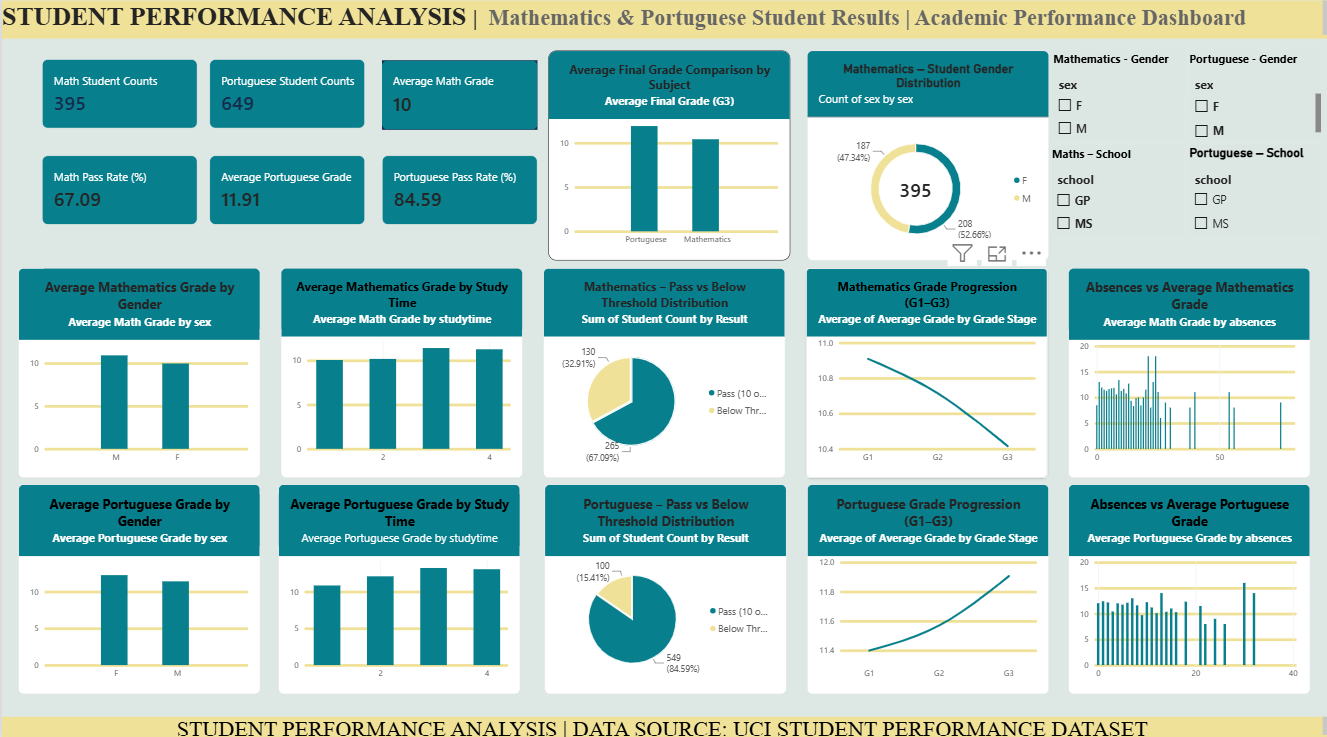

What the dashboard file says about the page in this screenshot:
{"tool":"powerbi","page":{"name":"Student Performance Dashboard","canvas":[1920,1080],"ordinal":0},"visuals":[{"type":"cardVisual","fields":{"Data":["student-mat.Math Student Counts"]},"box":[57.9,95.9,225,100],"z":0},{"type":"cardVisual","fields":{"Data":["student-mat.Portuguese Student Counts"]},"box":[300.4,95.9,225,100],"z":1000},{"type":"cardVisual","fields":{"Data":["student-mat.Average Math Grade"]},"box":[550.1,97.7,225,100],"z":2000},{"type":"cardVisual","fields":{"Data":["student-por.Average Portuguese Grade"]},"box":[300.4,235.3,225,100],"z":3000},{"type":"cardVisual","fields":{"Data":["student-mat.Math Pass Rate (%)"]},"box":[57.9,235.3,225,100],"z":4000},{"type":"cardVisual","fields":{"Data":["student-mat.Portuguese Pass Rate (%)"]},"box":[550.1,235.3,225,100],"z":5000},{"type":"textbox","box":[150,819,300,261],"z":6000},{"type":"textbox","box":[0,11.7,1920,55],"z":7000},{"type":"lineClusteredColumnComboChart","title":"Average Final Grade Comparison by Subject","fields":{"Category":["Subject_Grade_Analysis.Subject"],"Y":["Sum(Subject_Grade_Analysis.Average Grade)"]},"box":[790.8,83.2,350,304],"z":8000},{"type":"lineClusteredColumnComboChart","title":"Average Mathematics Grade by Gender","fields":{"Category":["student-mat.sex"],"Y":["student-mat.Average Math Grade"]},"box":[23.5,398.1,350,304],"z":9000},{"type":"lineClusteredColumnComboChart","title":"Average Mathematics Grade by Study Time","fields":{"Category":["student-mat.studytime"],"Y":["student-mat.Average Math Grade"]},"box":[403.6,398.1,350,304],"z":10000},{"type":"lineClusteredColumnComboChart","title":"Average Portuguese Grade by Gender","fields":{"Category":["student-por.sex"],"Y":["student-por.Average Portuguese Grade"]},"box":[23.5,711.2,350,304],"z":11000},{"type":"lineClusteredColumnComboChart","title":"Average Portuguese Grade by Study Time","fields":{"Category":["student-por.studytime"],"Y":["student-por.Average Portuguese Grade"]},"box":[399.9,711.2,350,304],"z":12000},{"type":"lineClusteredColumnComboChart","title":"Absences vs Average Mathematics Grade","fields":{"Category":["student-mat.absences"],"Y":["student-mat.Average Math Grade"]},"box":[1543.6,398.1,350,304],"z":13000},{"type":"lineClusteredColumnComboChart","title":"Absences vs Average Portuguese Grade","fields":{"Category":["student-por.absences"],"Y":["student-por.Average Portuguese Grade"]},"box":[1543.6,711.2,350,304],"z":14000},{"type":"slicer","title":"Mathematics - Gender","fields":{"Values":["student-mat.sex"]},"box":[1521.9,83.2,190,130],"z":15000},{"type":"slicer","title":"Maths – School","fields":{"Values":["student-mat.school"]},"box":[1520.1,220.8,190,130],"z":16000},{"type":"slicer","title":"Portuguese - Gender","fields":{"Values":["student-por.sex"]},"box":[1719.2,83.2,190,130.3],"z":17000},{"type":"slicer","title":"Portuguese – School","fields":{"Values":["student-por.school"]},"box":[1719.2,220.8,190,130],"z":18000},{"type":"donutChart","title":"Mathematics – Student Gender Distribution","fields":{"Category":["student-mat.sex"],"Y":["CountNonNull(student-mat.sex)"]},"box":[1165.4,83.2,350,304],"z":19000},{"type":"lineChart","title":"Mathematics Grade Progression (G1–G3)","fields":{"Category":["Math_Grade_Progress.Grade Stage"],"Y":["Avg(Math_Grade_Progress.Average Grade)"]},"box":[1163.6,398.1,350,304],"z":20000},{"type":"lineChart","title":"Portuguese Grade Progression (G1–G3)","fields":{"Category":["Portuguese_Grade_Progress.Grade Stage"],"Y":["Avg(Portuguese_Grade_Progress.Average Grade)"]},"box":[1165.4,711.2,350,304],"z":21000},{"type":"pieChart","title":"Mathematics – Pass vs Below Threshold Distribution","fields":{"Category":["Math_Pass_Analysis.Result"],"Y":["Sum(Math_Pass_Analysis.Student Count)"]},"box":[783.6,398.1,350,304],"z":22000},{"type":"pieChart","title":" Portuguese – Pass vs Below Threshold Distribution","fields":{"Category":["Portuguese_Pass_Analysis.Result"],"Y":["Sum(Portuguese_Pass_Analysis.Student Count)"]},"box":[785.4,711.2,350,304],"z":23000},{"type":"textbox","box":[0,1048,1920,32],"z":24000}]}

Visuals, with their boxes in screenshot pixels (x1, y1, x2, y2), scaled from the page's 1920x1080 canvas onto the 1327x737 screenshot:
cardVisual - student-mat.Math Student Counts: [x1=40, y1=65, x2=196, y2=134]
cardVisual - student-mat.Portuguese Student Counts: [x1=208, y1=65, x2=363, y2=134]
cardVisual - student-mat.Average Math Grade: [x1=380, y1=67, x2=536, y2=135]
cardVisual - student-por.Average Portuguese Grade: [x1=208, y1=161, x2=363, y2=229]
cardVisual - student-mat.Math Pass Rate (%): [x1=40, y1=161, x2=196, y2=229]
cardVisual - student-mat.Portuguese Pass Rate (%): [x1=380, y1=161, x2=536, y2=229]
textbox: [x1=104, y1=559, x2=311, y2=736]
textbox: [x1=0, y1=8, x2=1326, y2=46]
"Average Final Grade Comparison by Subject" lineClusteredColumnComboChart: [x1=547, y1=57, x2=788, y2=264]
"Average Mathematics Grade by Gender" lineClusteredColumnComboChart: [x1=16, y1=272, x2=258, y2=479]
"Average Mathematics Grade by Study Time" lineClusteredColumnComboChart: [x1=279, y1=272, x2=521, y2=479]
"Average Portuguese Grade by Gender" lineClusteredColumnComboChart: [x1=16, y1=485, x2=258, y2=693]
"Average Portuguese Grade by Study Time" lineClusteredColumnComboChart: [x1=276, y1=485, x2=518, y2=693]
"Absences vs Average Mathematics Grade" lineClusteredColumnComboChart: [x1=1067, y1=272, x2=1309, y2=479]
"Absences vs Average Portuguese Grade" lineClusteredColumnComboChart: [x1=1067, y1=485, x2=1309, y2=693]
"Mathematics - Gender" slicer: [x1=1052, y1=57, x2=1183, y2=145]
"Maths – School" slicer: [x1=1051, y1=151, x2=1182, y2=239]
"Portuguese - Gender" slicer: [x1=1188, y1=57, x2=1320, y2=146]
"Portuguese – School" slicer: [x1=1188, y1=151, x2=1320, y2=239]
"Mathematics – Student Gender Distribution" donutChart: [x1=805, y1=57, x2=1047, y2=264]
"Mathematics Grade Progression (G1–G3)" lineChart: [x1=804, y1=272, x2=1046, y2=479]
"Portuguese Grade Progression (G1–G3)" lineChart: [x1=805, y1=485, x2=1047, y2=693]
"Mathematics – Pass vs Below Threshold Distribution" pieChart: [x1=542, y1=272, x2=783, y2=479]
" Portuguese – Pass vs Below Threshold Distribution" pieChart: [x1=543, y1=485, x2=785, y2=693]
textbox: [x1=0, y1=715, x2=1326, y2=736]
